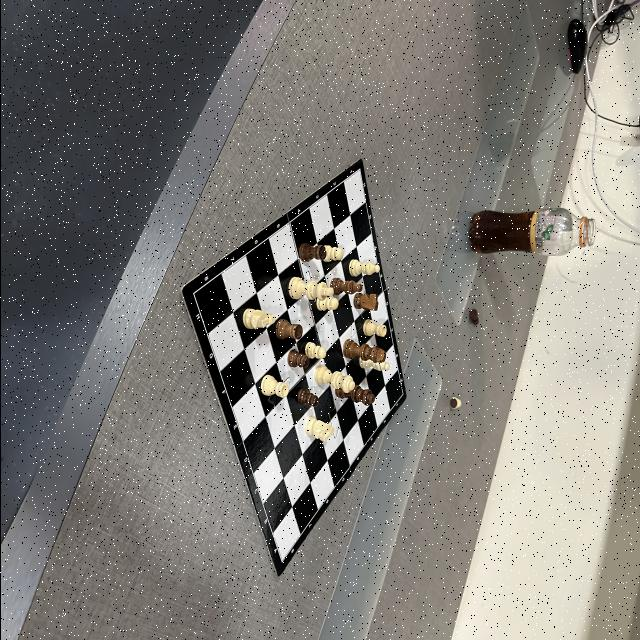Black-Bishop: (329, 278, 362, 296)
Black-King: (342, 339, 385, 363)
Black-Knight: (352, 293, 378, 311)
Black-Pawn: (296, 388, 318, 407), (286, 349, 308, 368)
Black-Queen: (334, 383, 374, 406)
Black-Rook: (275, 318, 302, 339), (298, 243, 326, 263)
White-Bishop: (348, 259, 380, 277), (358, 357, 388, 371)
White-King: (287, 277, 333, 301)
White-Knight: (304, 417, 334, 442), (242, 308, 274, 330)
White-Pawn: (304, 342, 326, 359), (316, 296, 338, 312), (322, 245, 342, 262)
White-Queen: (314, 365, 354, 393)
White-Rook: (260, 374, 288, 398), (362, 319, 386, 337)
